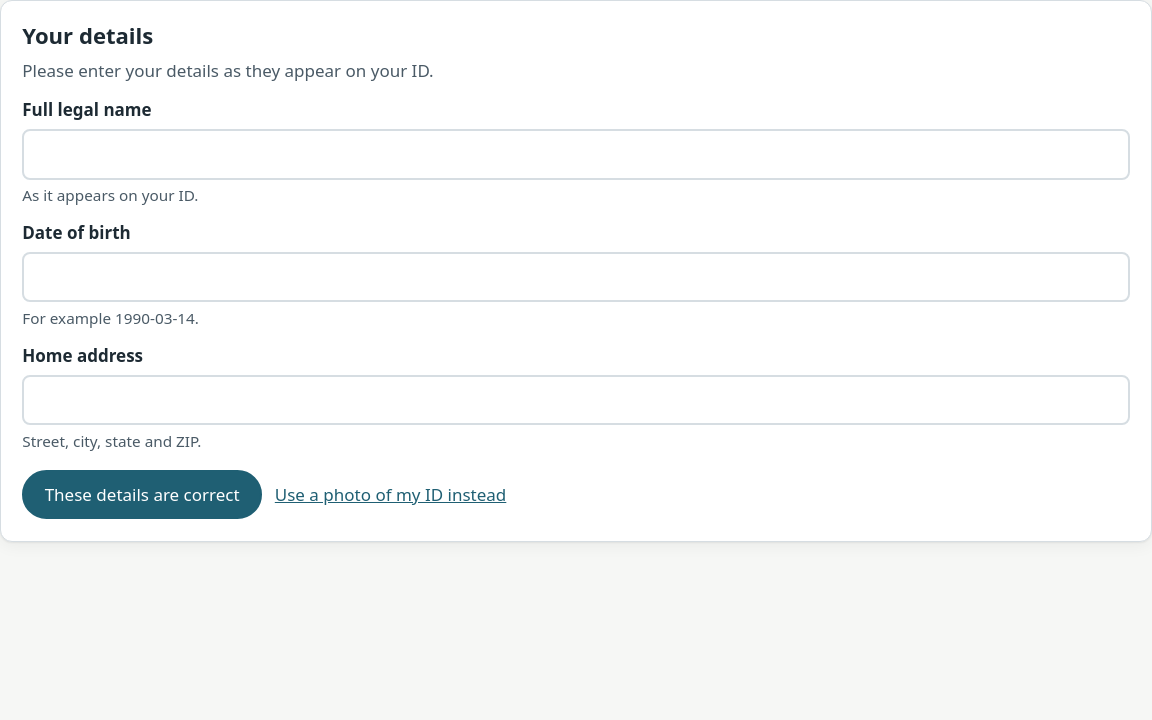
Scenario: IdentityStep › adults-only answer shows resources instead of continuing
Click the button "These details are correct". click: (142, 495)
box: [22,470,262,519]
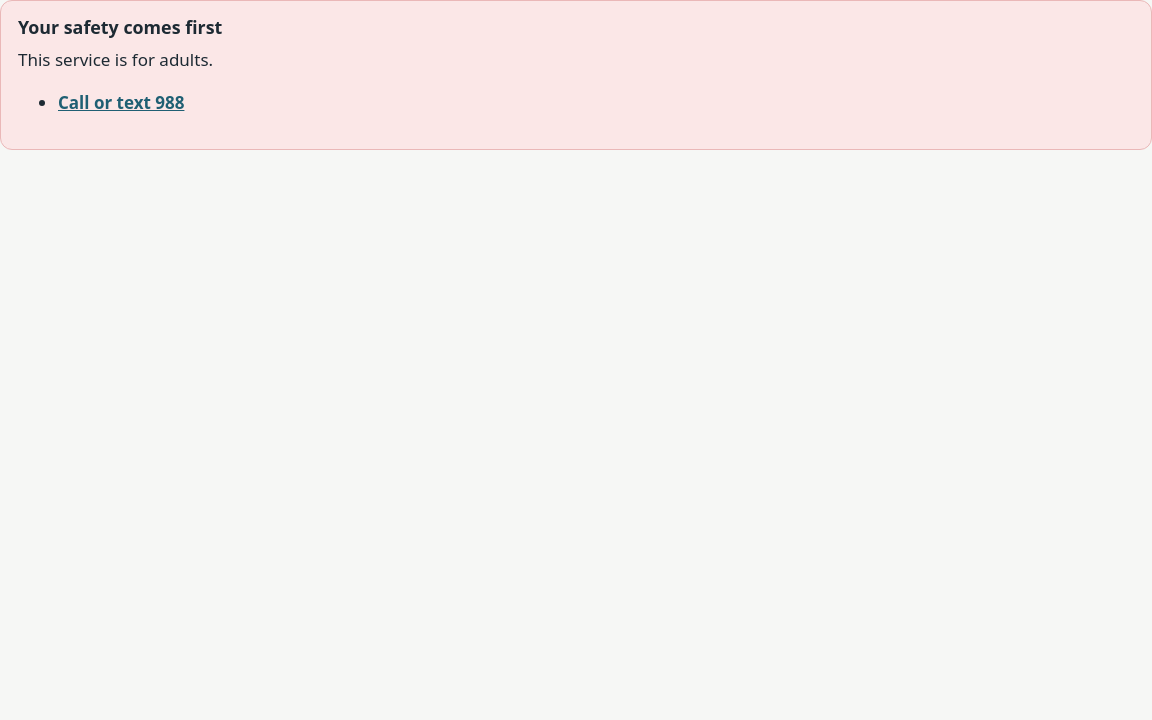
Check: the text "This service is for adults." is shown, box [18,48,213,71]
